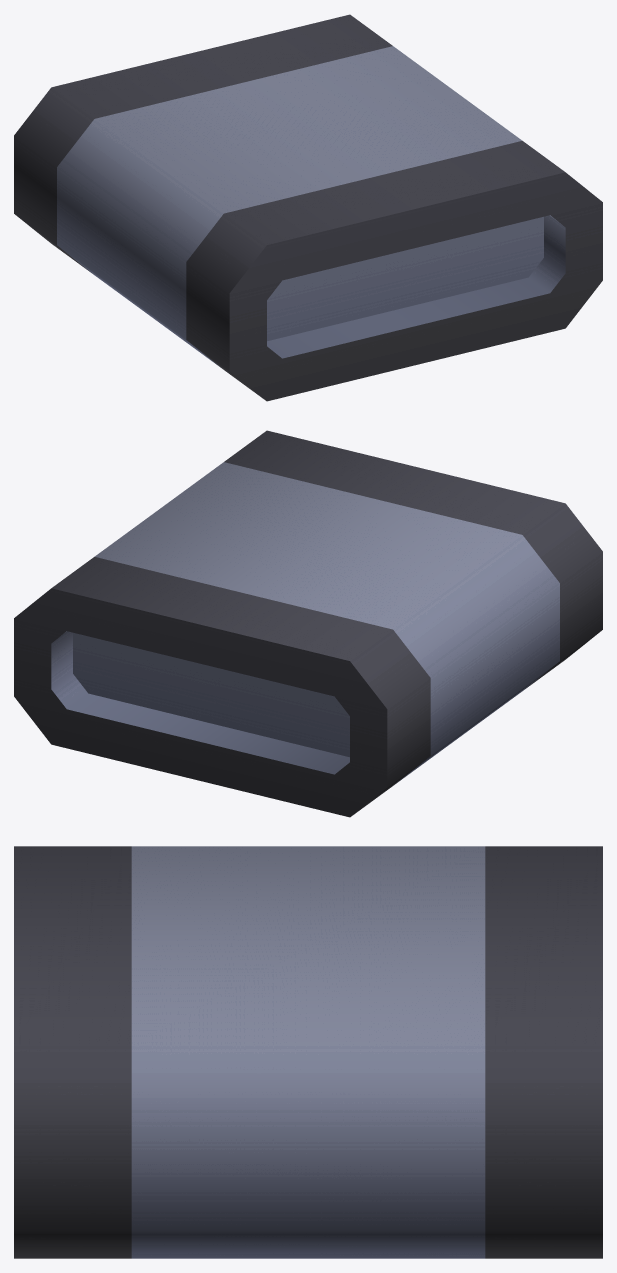
Rendered from conveyor-stripe.glb.
3 views of the same model, one above another, from view 1: azimuth 30°, elevation 25°; view 2: azimuth 150°, elevation 25°; view 3: azimuth 270°, elevation 25° (orthographic). The views are drawn at different scales.
Visible parts, largest first — view 1: conveyor-stripe; view 2: conveyor-stripe; view 3: conveyor-stripe.
Boxes of the visible parts, x1=… form: conveyor-stripe: x1=14, y1=14, x2=602, y2=401; conveyor-stripe: x1=14, y1=430, x2=602, y2=817; conveyor-stripe: x1=14, y1=846, x2=602, y2=1258.
Size of the model in its own units: 1 by 0.4 by 1.
1 material, 1 textured.
